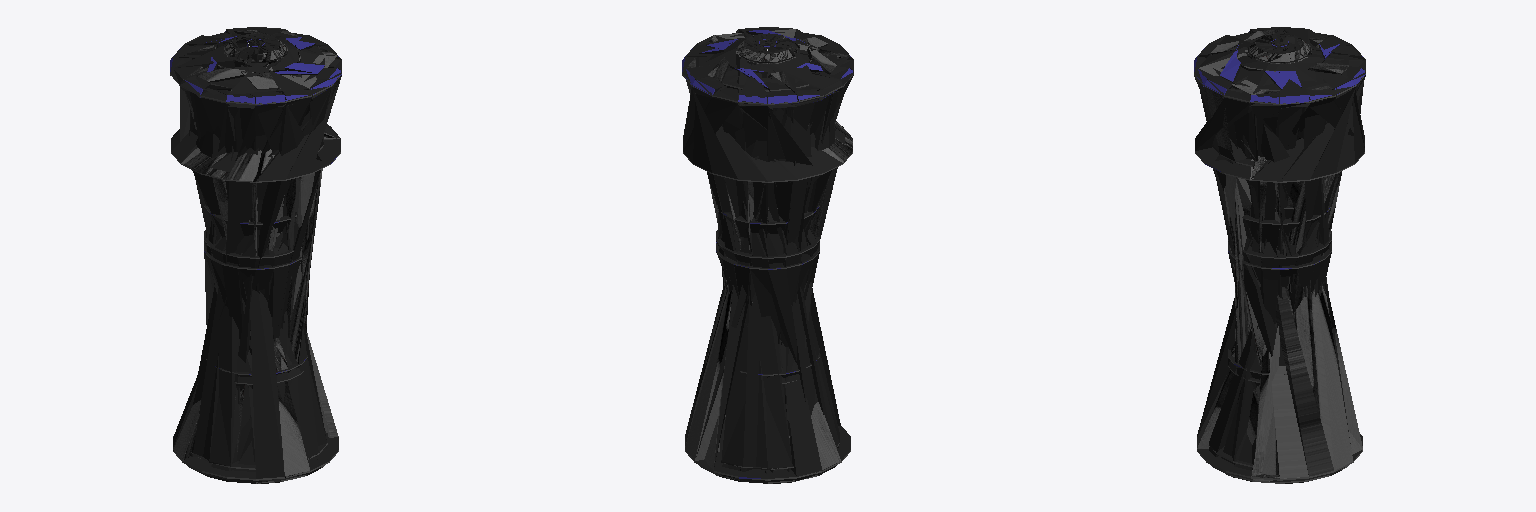
3 renders of one model, left to right at view 1: azimuth 30°, elevation 25°; view 2: azimuth 150°, elevation 25°; view 3: azimuth 270°, elevation 25°, orthographic.
Visible parts, largest first — view 1: Scifi_structure, Inside_scifi_structure; view 2: Scifi_structure, Inside_scifi_structure; view 3: Scifi_structure, Inside_scifi_structure.
Boxes of the visible parts, x1,y1,x2,y2 form: Scifi_structure: [170, 27, 341, 483]; Inside_scifi_structure: [170, 32, 341, 483]; Scifi_structure: [682, 27, 853, 483]; Inside_scifi_structure: [682, 32, 853, 483]; Scifi_structure: [1194, 27, 1365, 481]; Inside_scifi_structure: [1194, 31, 1365, 483].
Size of the model in its own units: 7.4 by 19.83 by 7.29.
11 materials, 3 textured.